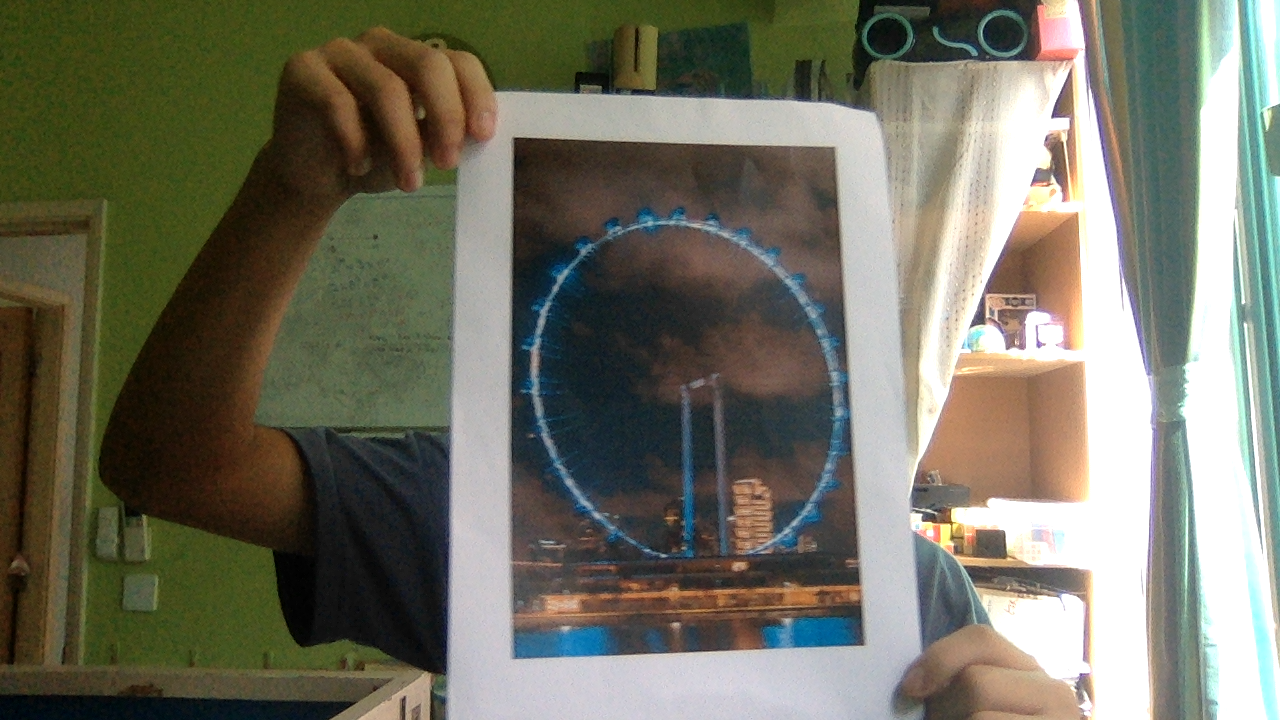Flyer: (507, 131, 866, 653)
